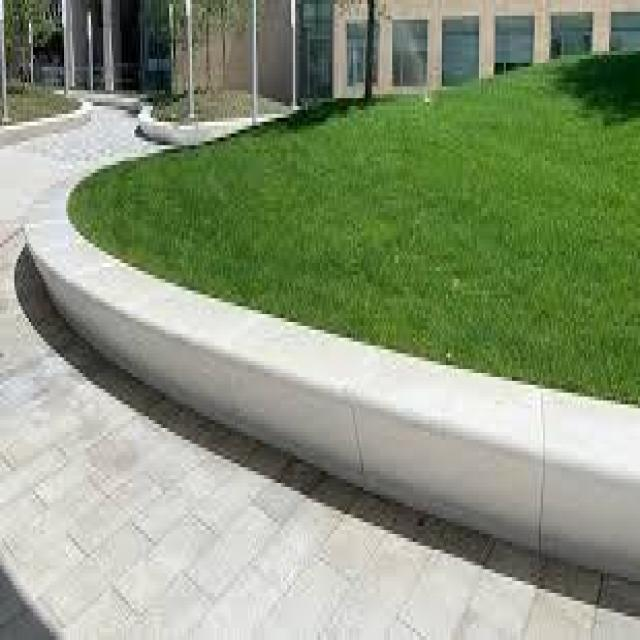curb: (24, 192, 640, 596)
